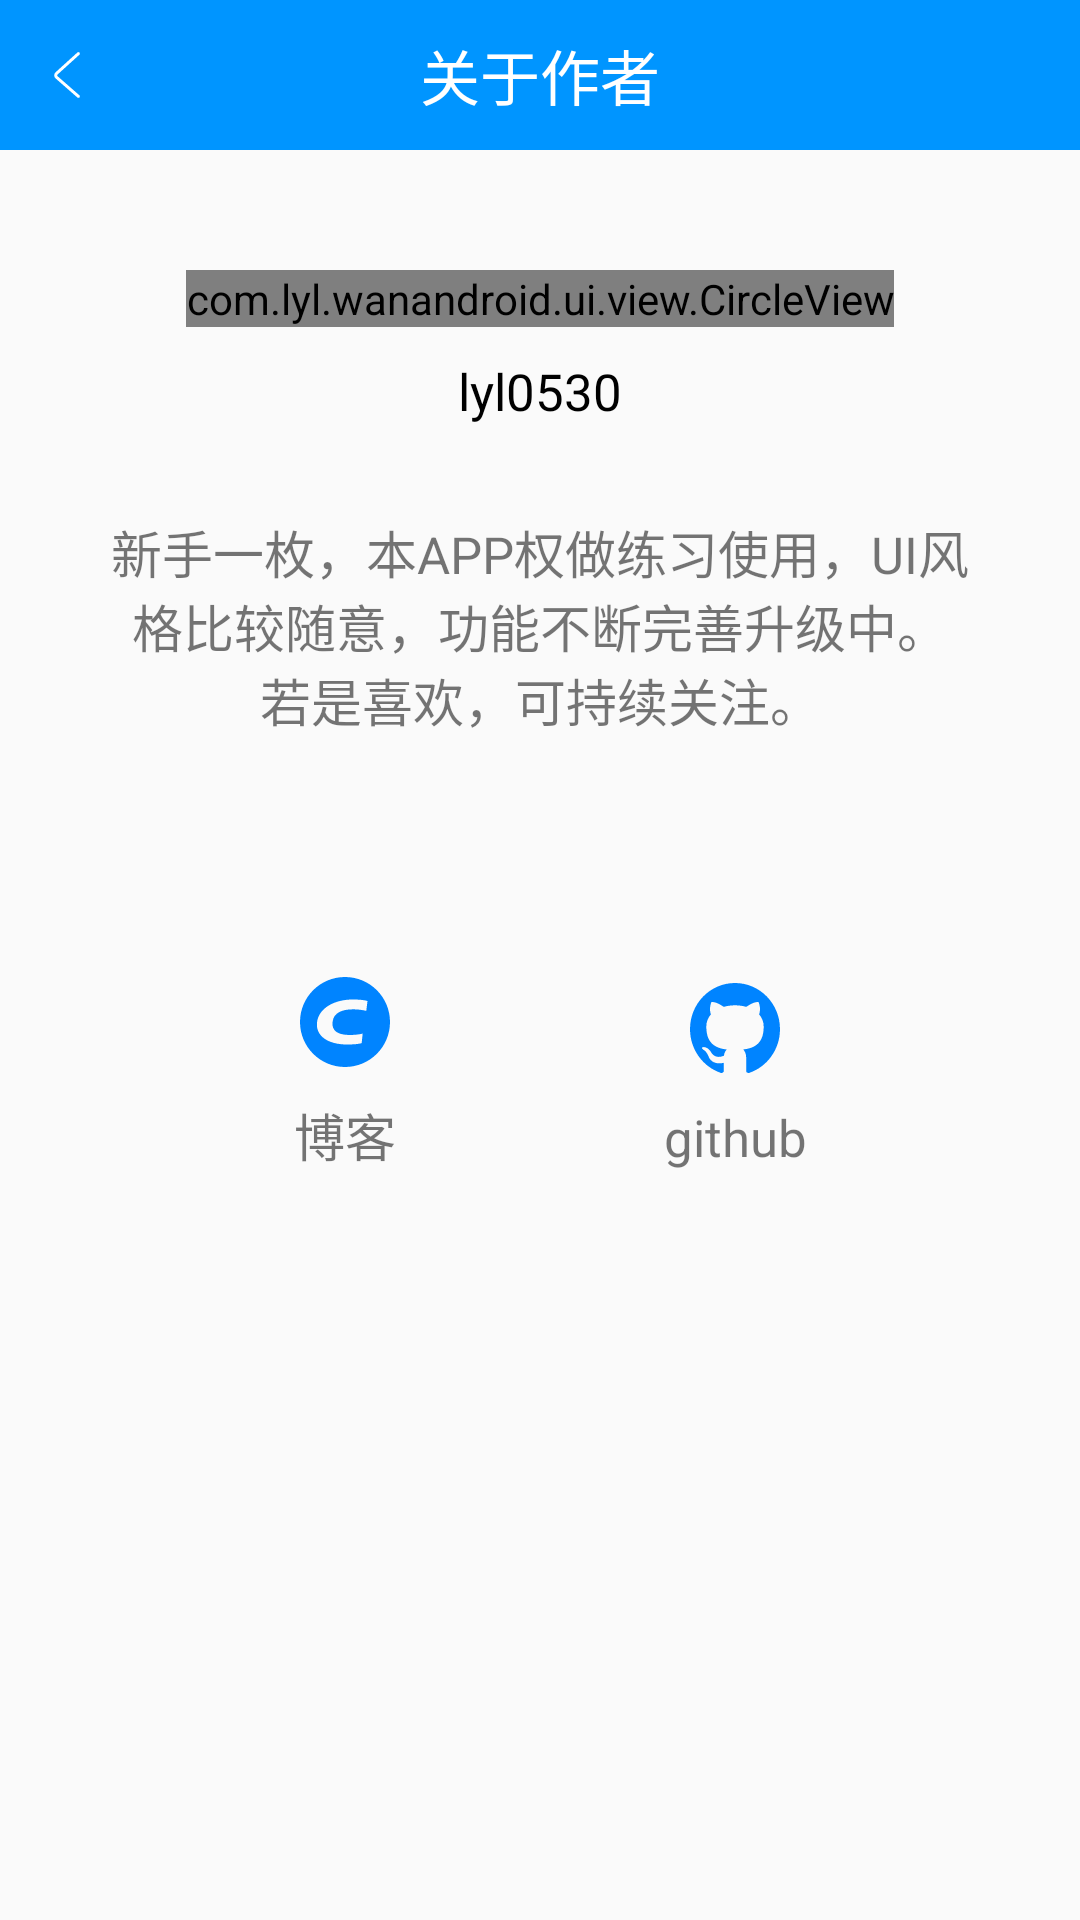

Icon bounding boxes for this 1080x1920 phone screenshot, format (x1, y1, x2, y2):
title back: (54, 52, 80, 98)
